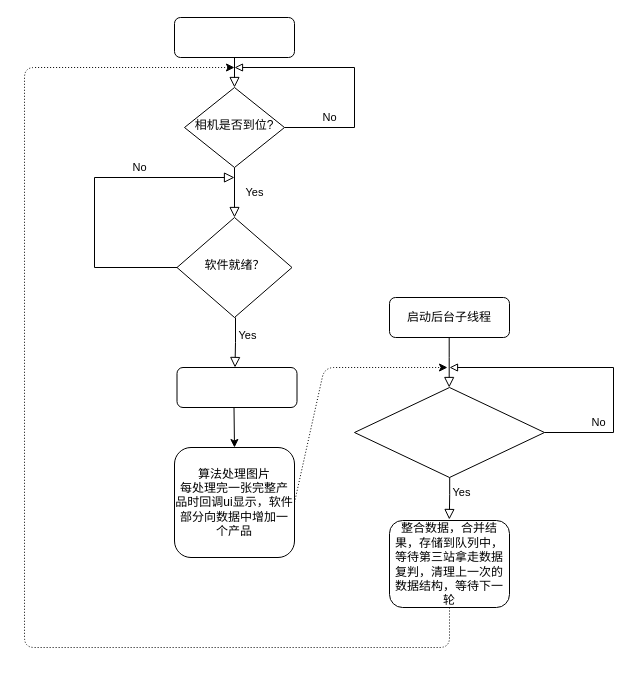
This 639x673 diagram has some shape labels left out. Here are the shapes that lost their labels. From the top down, the centre of each, then its label:
[234,37]: 料盘达到拍摄位置
[236,387]: 机构运动相机开始拍图，开始扫描
[449,432]: 后台线程轮询判断是否满盘？
